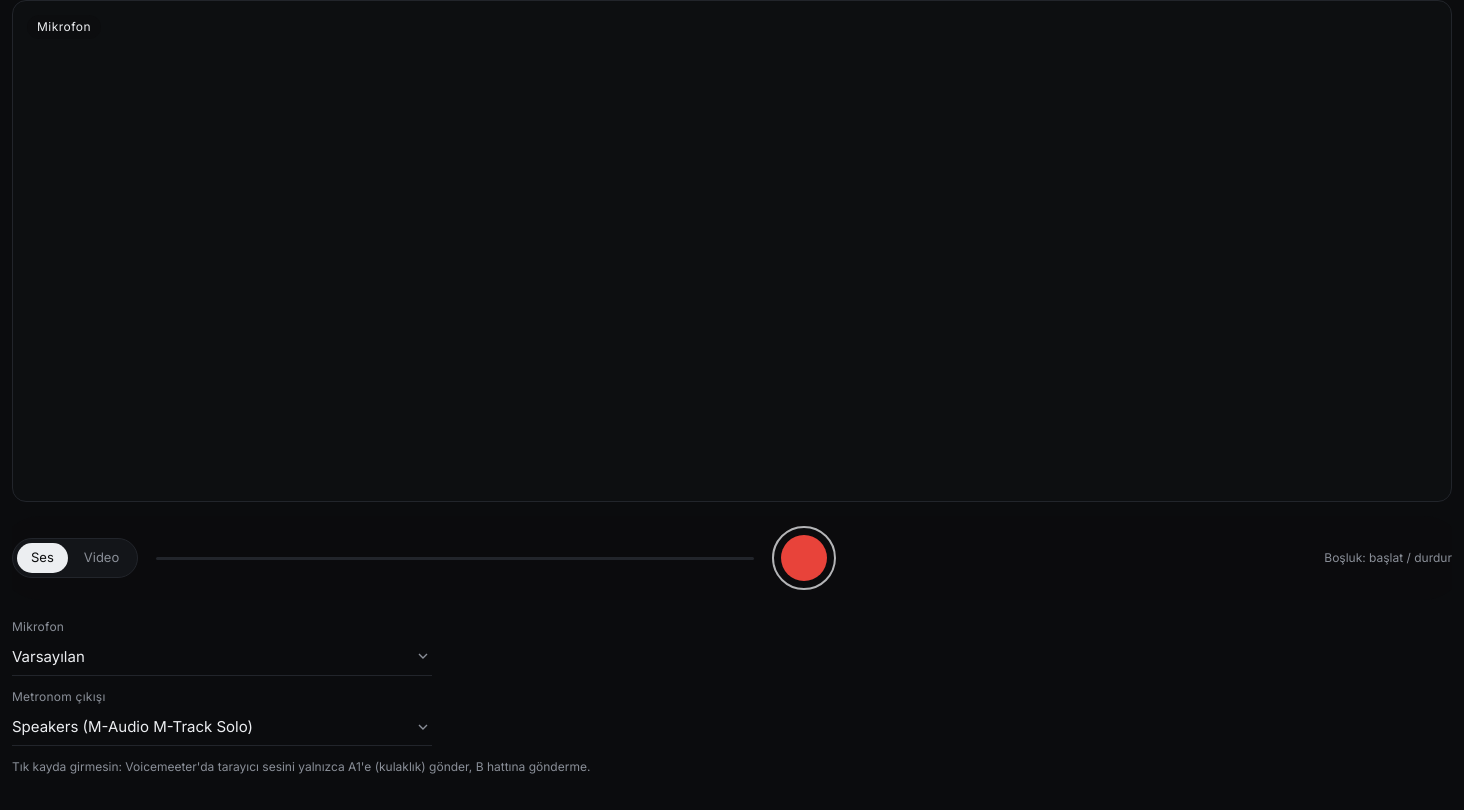
Test case: Recorder › start point past the end: Turkish message, records without track
Click the button named "Kaydet" at (804, 558), box [772,526,836,590]
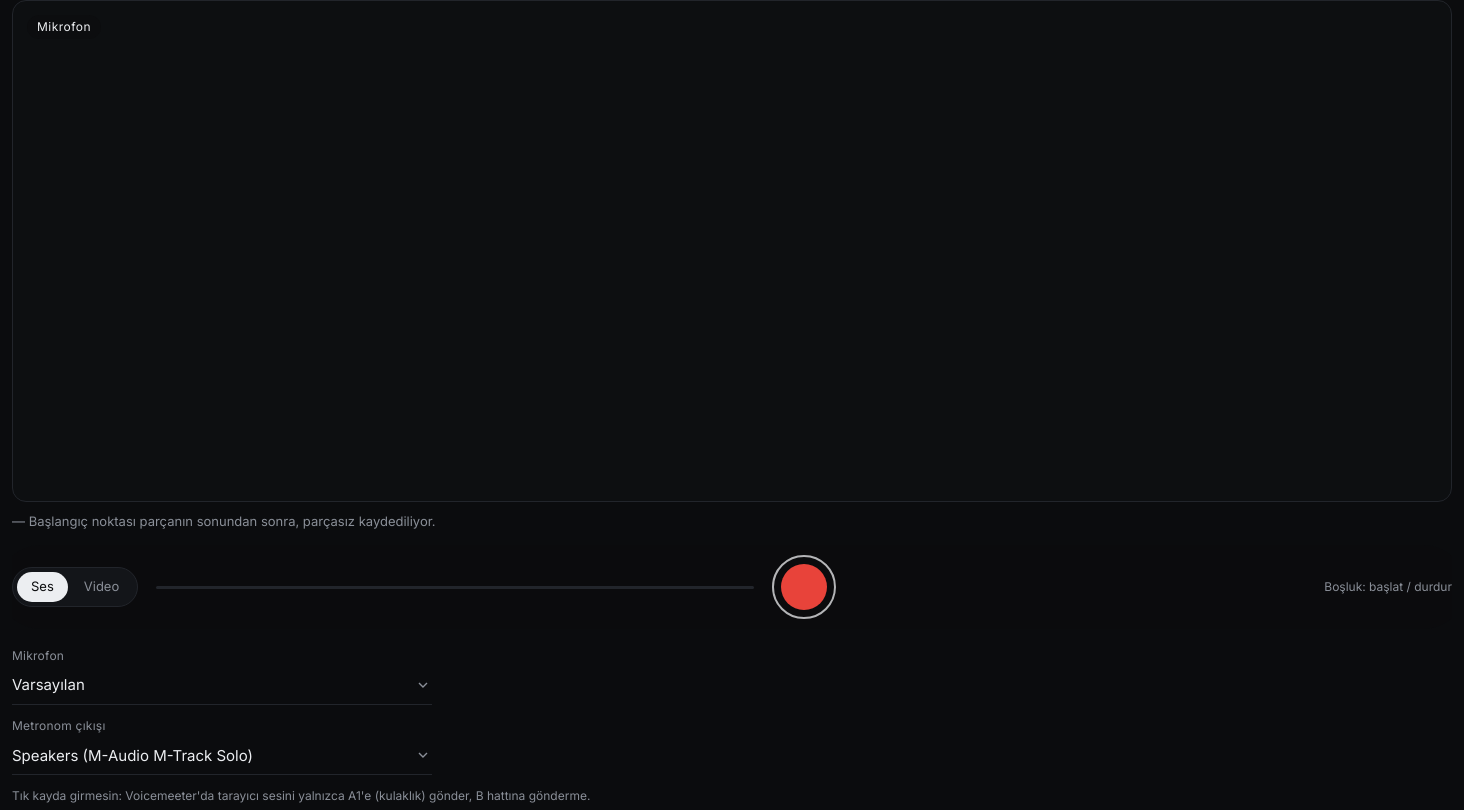
Check: the text "Başlangıç noktası parçanın sonundan sonra, parçasız kaydediliyor." is shown, box [29,513,436,529]
